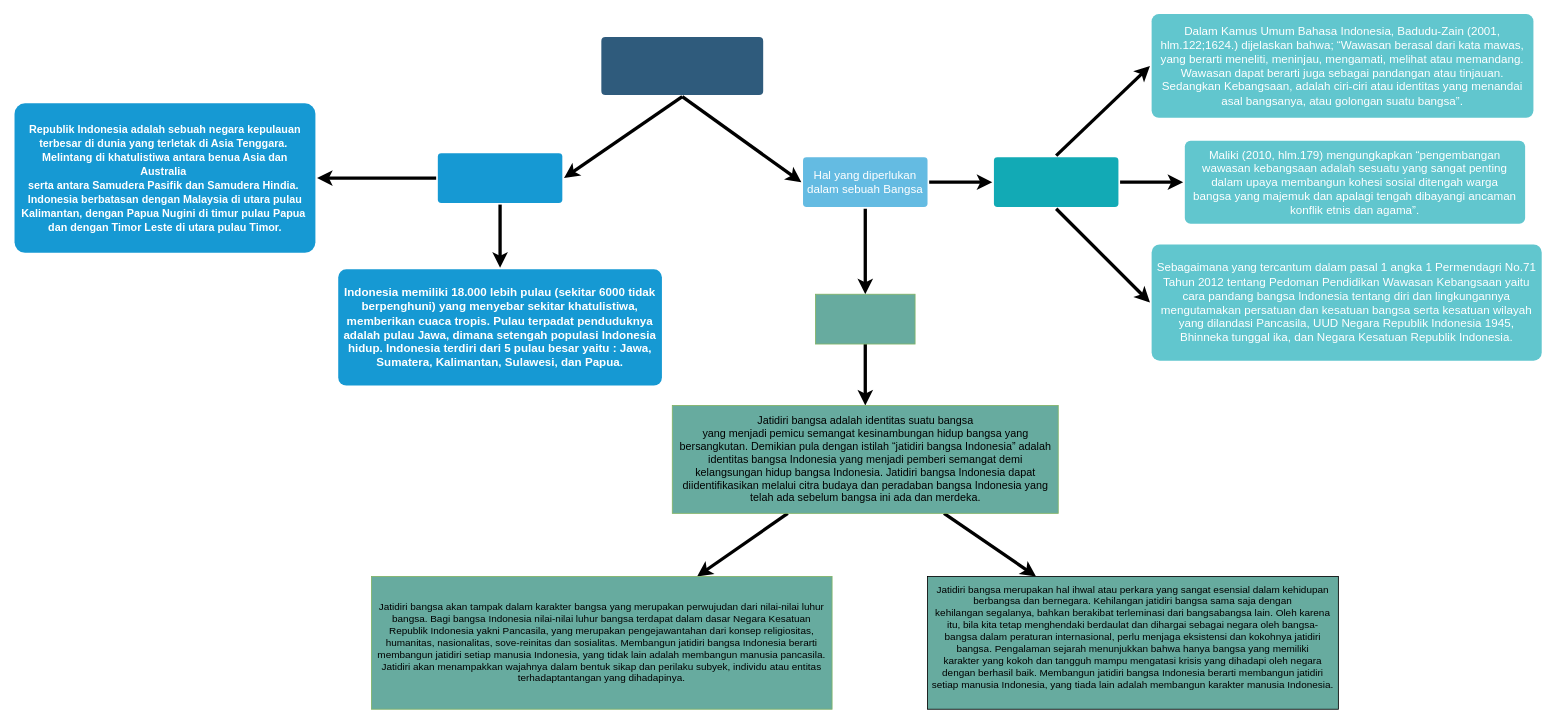
Image size: 1555x724. Some labels were removed from this diagram. The shapes that lost their labels are listed below. From the top down, each one's centre as x and y in pixels, then its label:
At point 682,66: "Bangsa Indonesia".
At point 499,178: "Orientasi".
At point 1056,182: "Wawasan Kebangsaan".
At point 865,318: "Jati Diri Bangsa".
